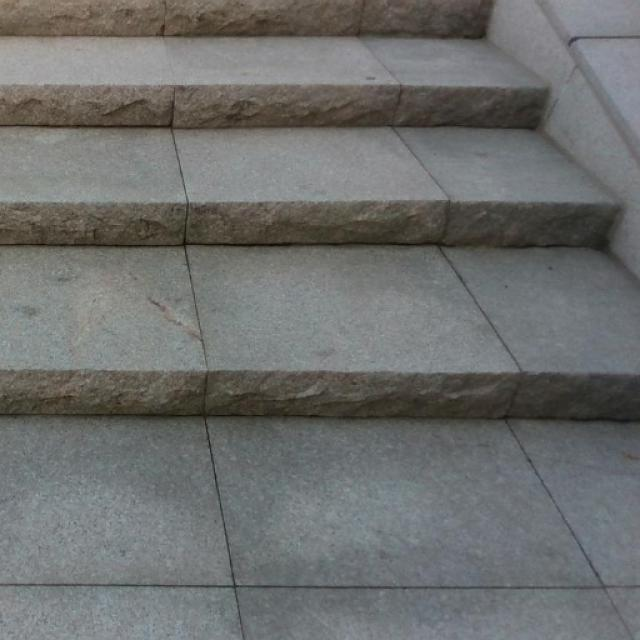Stairs: (0, 0, 639, 420)
